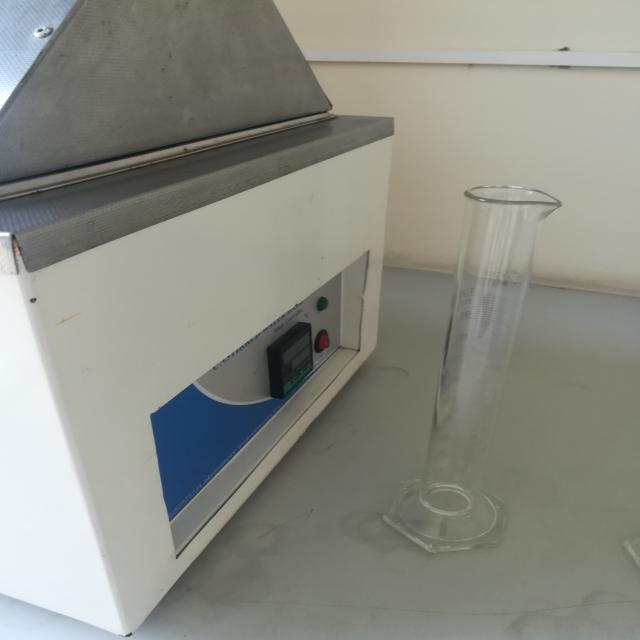Measuring_Cylinder: (360, 134, 584, 602)
